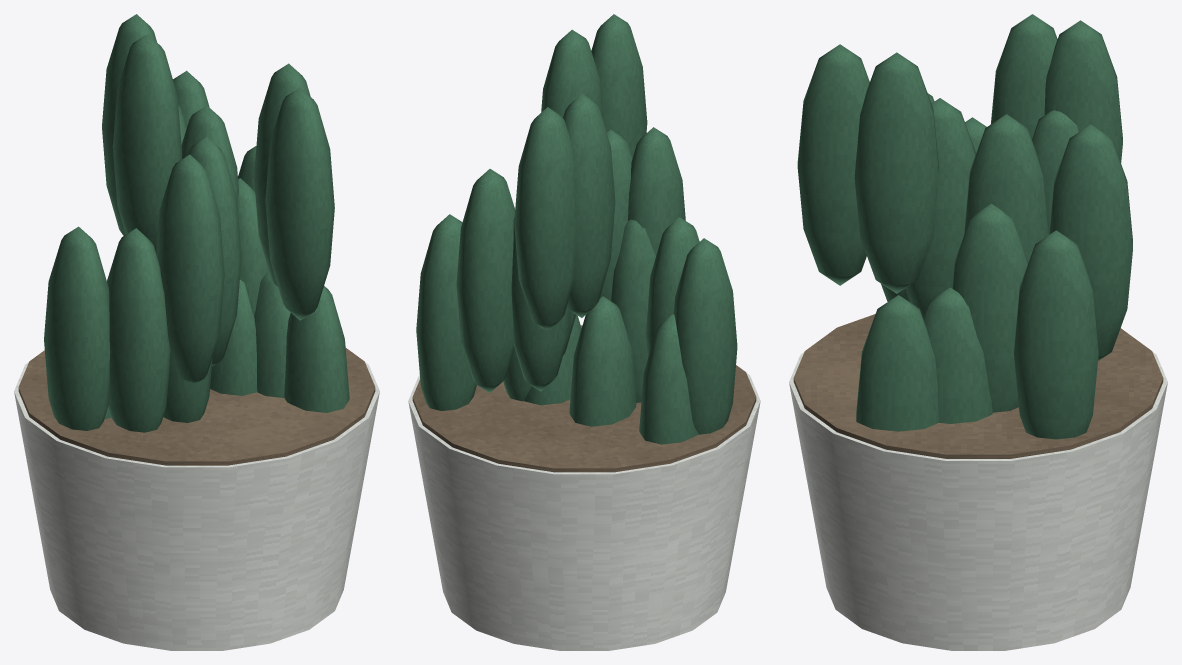
File: desk_plant_mini01.glb
3 renders of one model, left to right at view 1: azimuth 30°, elevation 25°; view 2: azimuth 150°, elevation 25°; view 3: azimuth 270°, elevation 25°, orthographic. The views are drawn at different scales.
Visible parts, largest first — view 1: leaves, pot, soil; view 2: leaves, pot, soil; view 3: leaves, pot, soil.
Boxes of the visible parts, bbox=[...] form: leaves: bbox=[44, 14, 349, 432]; pot: bbox=[14, 362, 379, 650]; soil: bbox=[18, 348, 375, 465]; leaves: bbox=[416, 14, 737, 444]; pot: bbox=[408, 373, 760, 650]; soil: bbox=[412, 325, 756, 472]; leaves: bbox=[797, 14, 1132, 439]; pot: bbox=[789, 352, 1167, 650]; soil: bbox=[793, 314, 1163, 458].
Size of the model in its own units: 0.1595 by 0.265 by 0.162.
3 materials, 3 textured.
